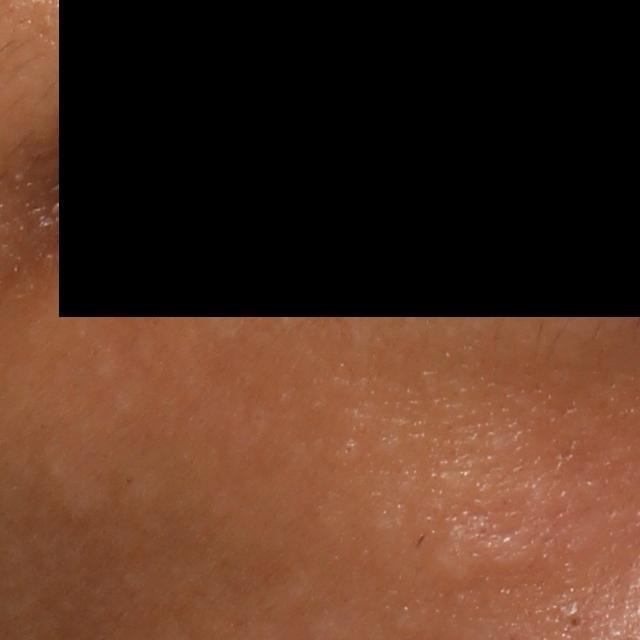comedo: (560, 606, 588, 635)
hypertrophic_scar: (433, 514, 541, 587)
